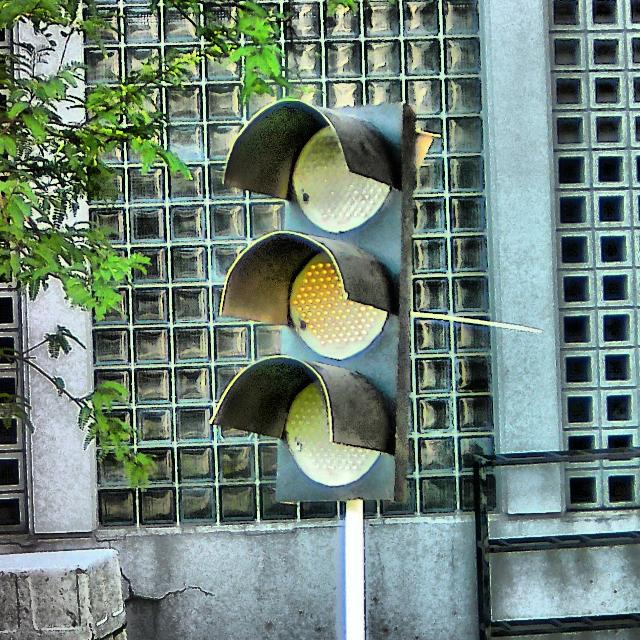yellow: (216, 104, 409, 501)
